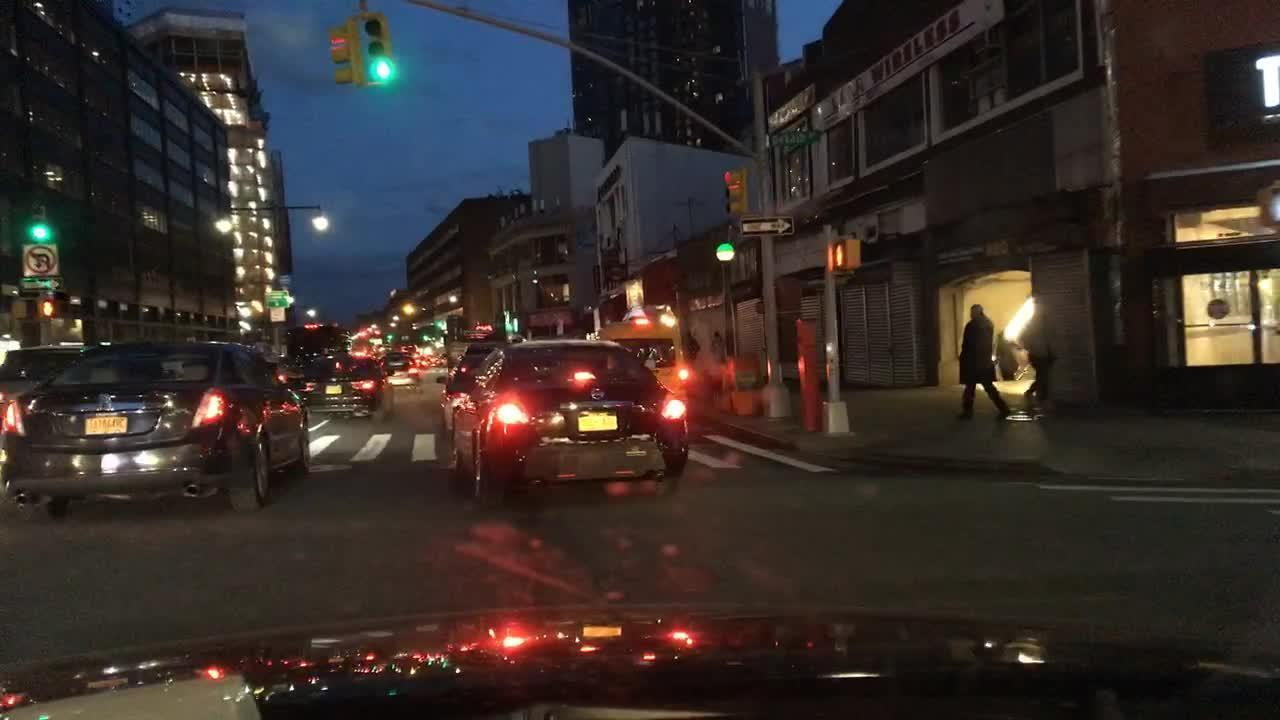Nissan: (583, 383, 613, 405)
